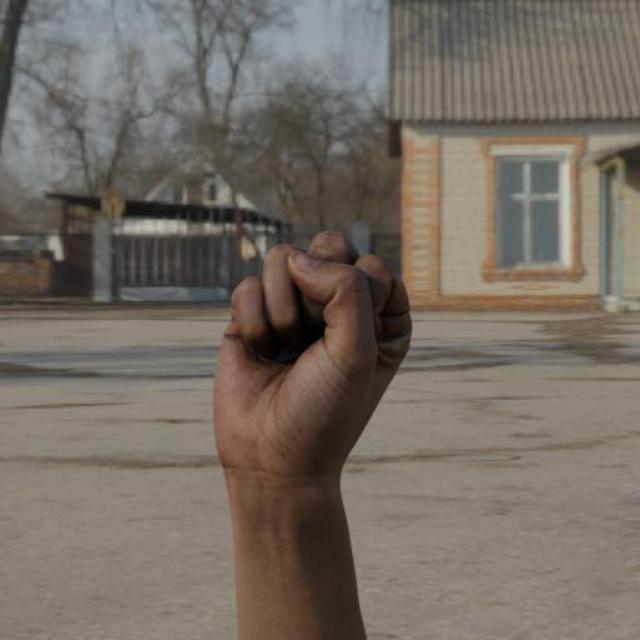S: (199, 228, 420, 482)
